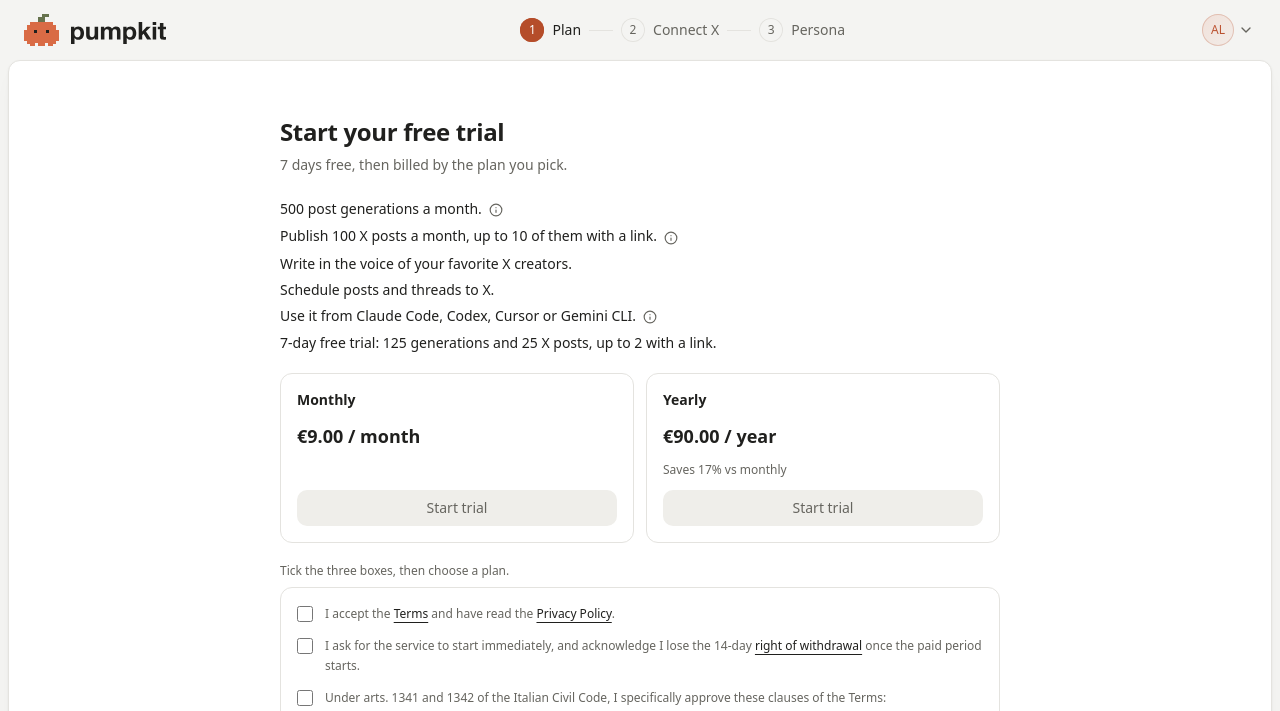
Scenario: Paywall › Trial › asks the User to review the Terms when checkout says they have changed
Step 1. Click the checkbox labelled "I accept the Terms and have read the Privacy Policy ." → (305, 614), box x1=297 y1=606 x2=313 y2=622
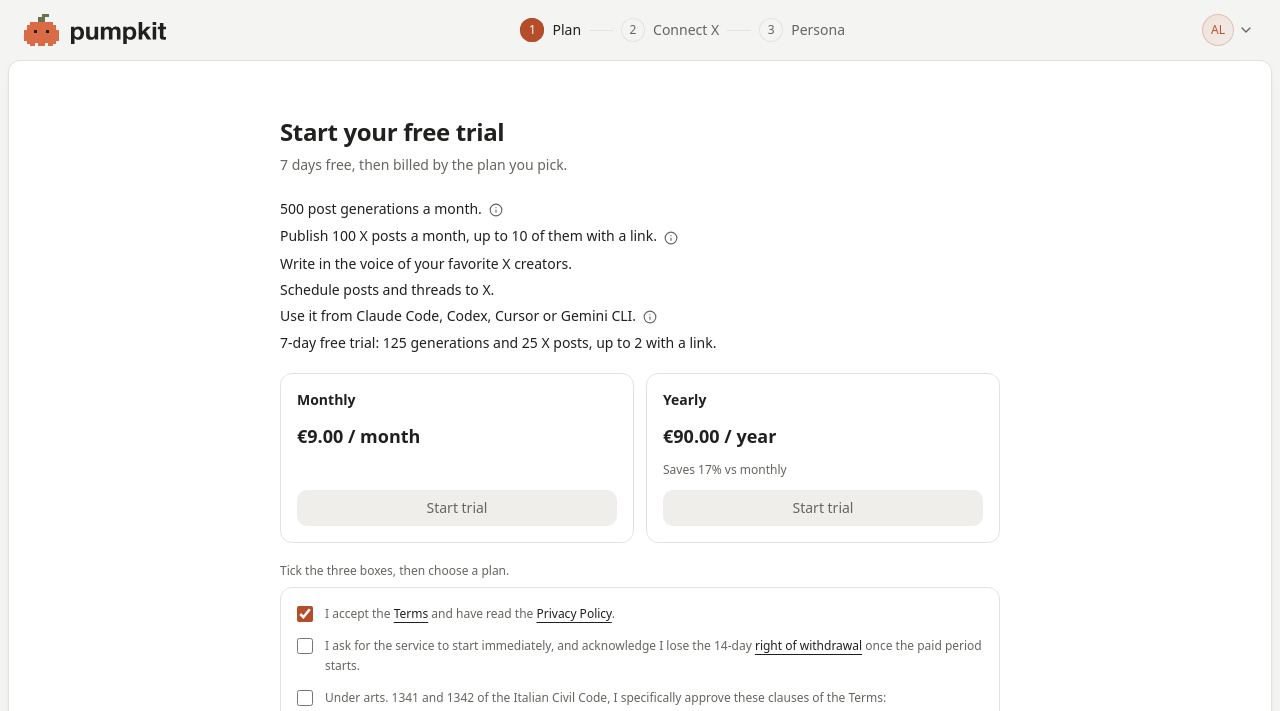
Step 2. Click the checkbox labelled "I ask for the service to start immediately" → (305, 646), box x1=297 y1=638 x2=313 y2=654
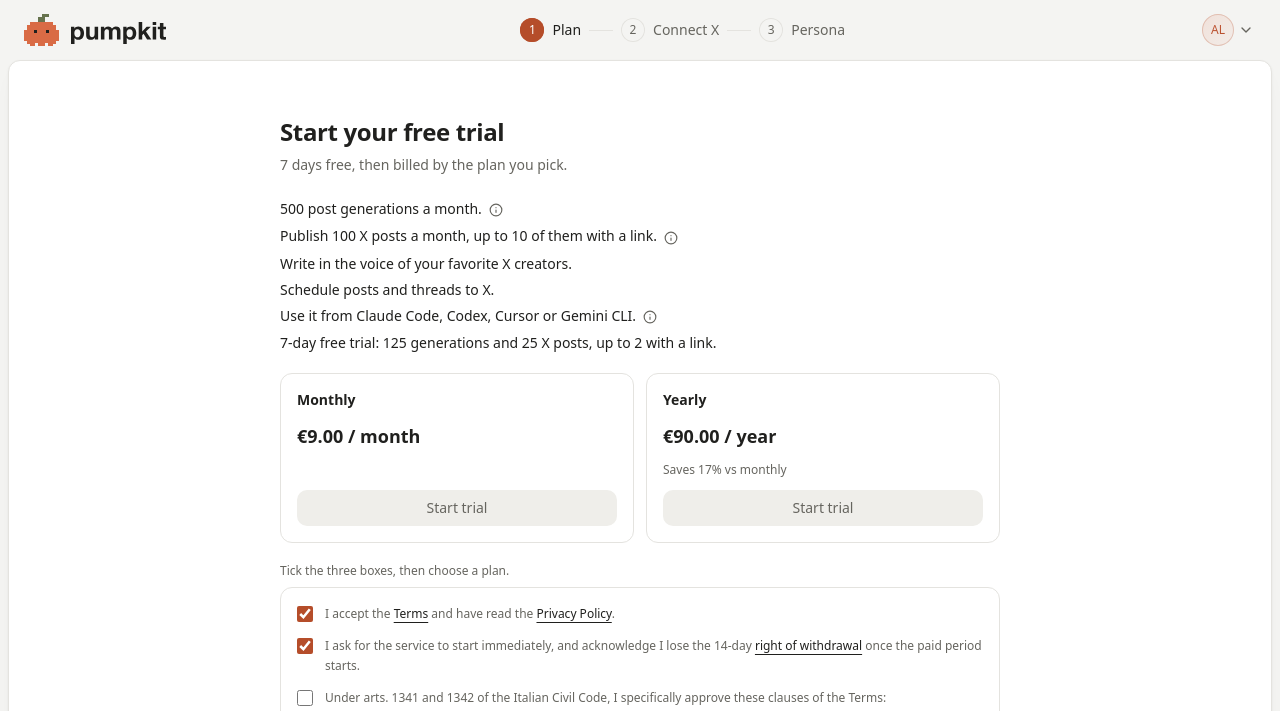
Step 3. Click the checkbox named "I specifically approve these clauses" → (305, 698), box x1=297 y1=690 x2=313 y2=706
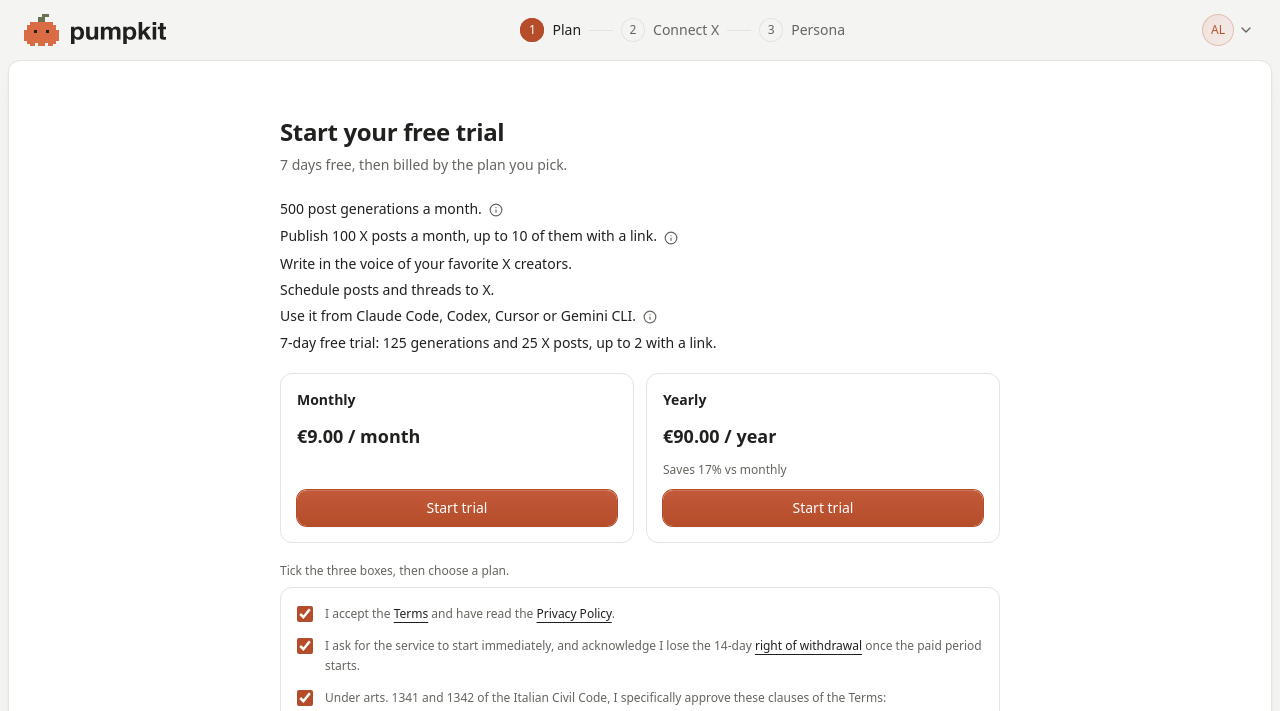
Step 4. Click the button with aria-label "Start trial: Monthly" → (457, 508), box x1=297 y1=490 x2=617 y2=526
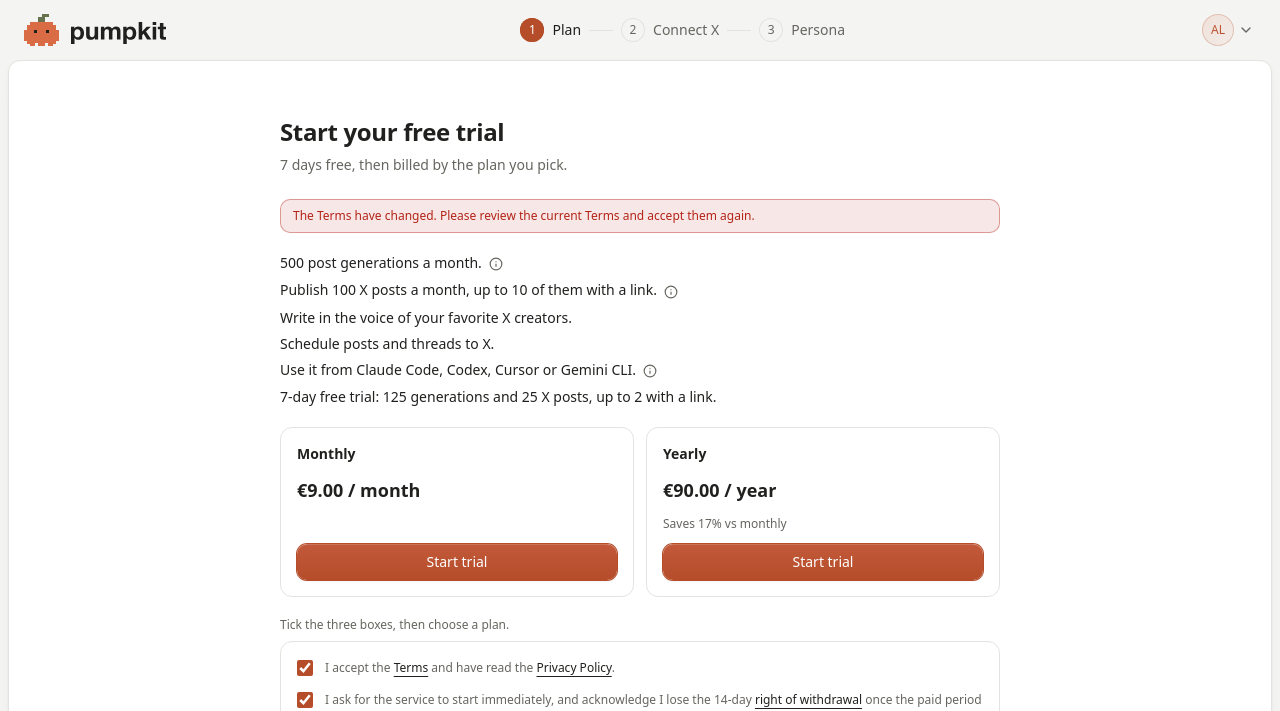
Expected: the message reads "The Terms have changed. Please review the current Terms and accept them again.", x1=293 y1=207 x2=755 y2=224
